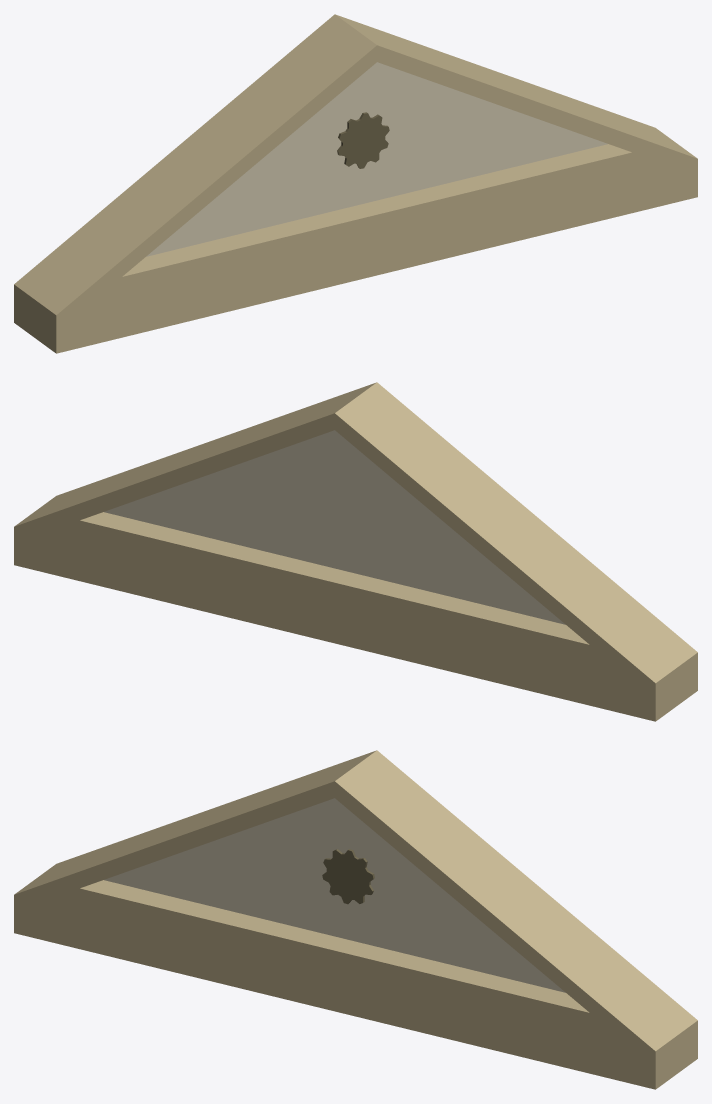
Rendered from rpg-mansion-portico-pediment-01.glb.
3 renders of one model, top to bottom at view 1: azimuth 30°, elevation 25°; view 2: azimuth 150°, elevation 25°; view 3: azimuth 330°, elevation 25°, orthographic.
Parts seen in each view (by area): view 1: rpg-mansion-portico-pediment-01; view 2: rpg-mansion-portico-pediment-01; view 3: rpg-mansion-portico-pediment-01.
Boxes of the visible parts, left/top/right/bottom form: rpg-mansion-portico-pediment-01: left=14, top=14, right=697, bottom=353; rpg-mansion-portico-pediment-01: left=14, top=382, right=697, bottom=721; rpg-mansion-portico-pediment-01: left=14, top=750, right=697, bottom=1089.
Bounding box in the file's own units: 4.2 × 1.44 × 0.48.
